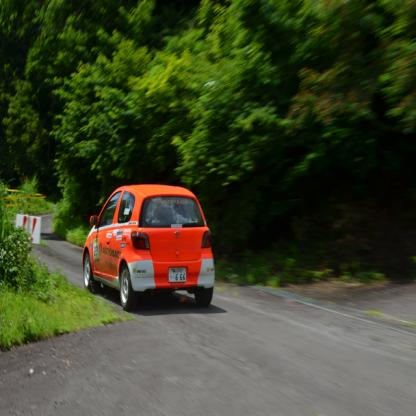Car: (83, 184, 217, 312)
